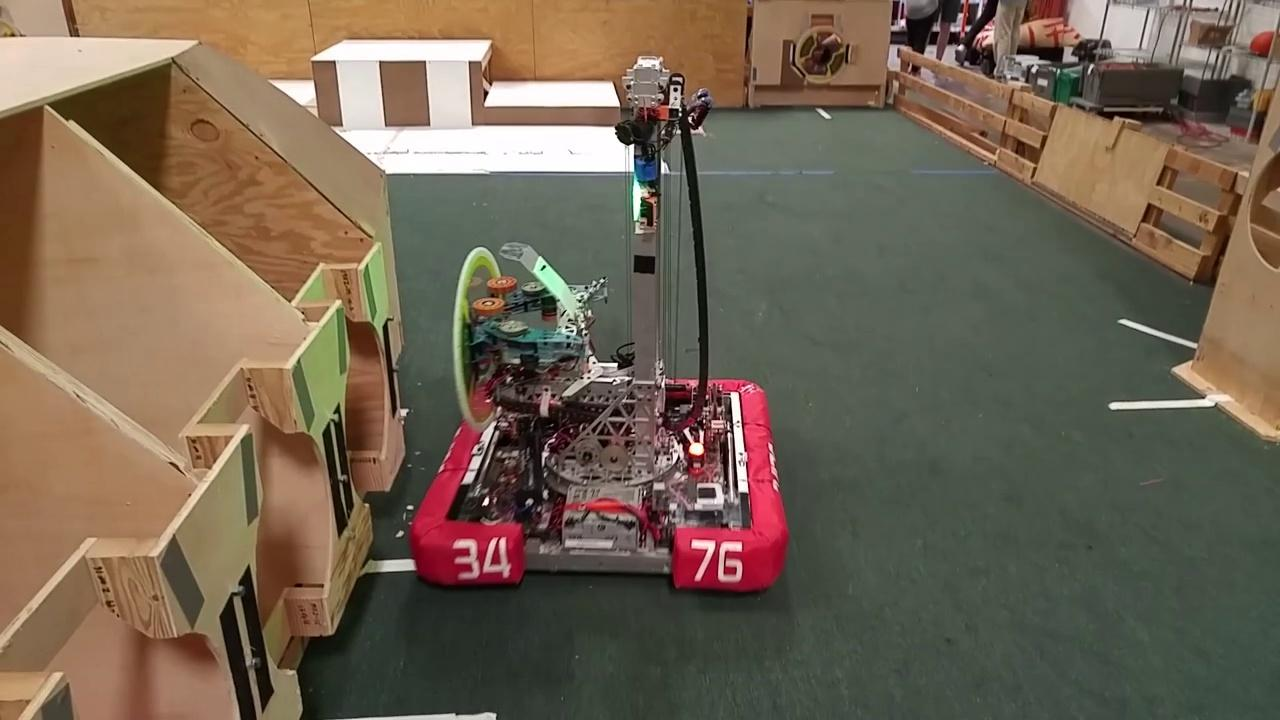robot: (406, 54, 800, 603)
